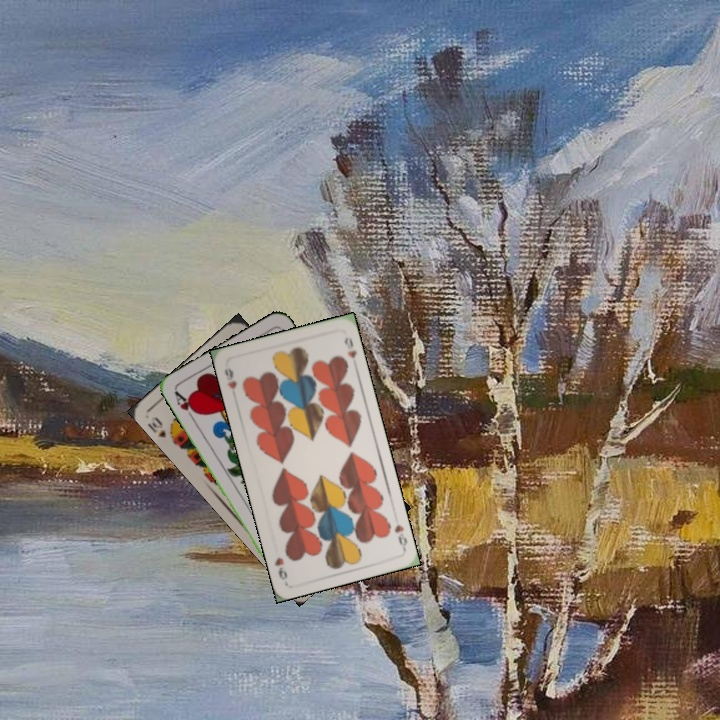H9: (390, 520, 410, 552), (220, 364, 239, 391)
HA: (171, 387, 201, 424)
S10: (144, 413, 177, 444)
